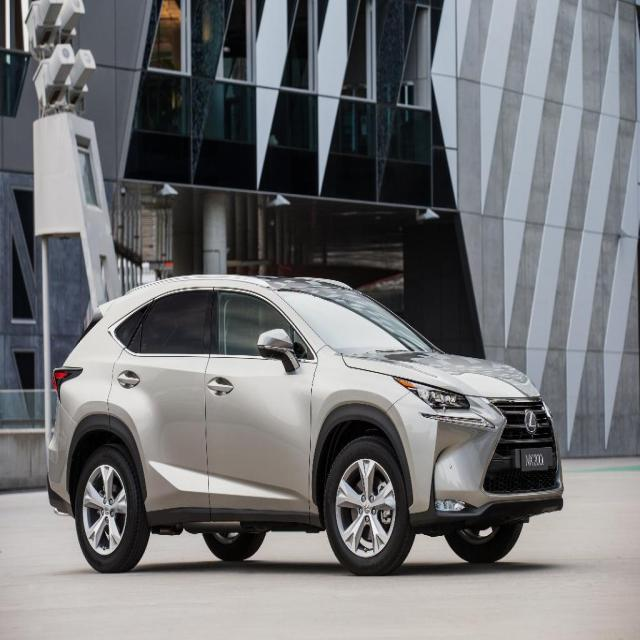car: (48, 272, 564, 574)
